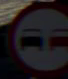No overtake: (8, 2, 64, 71)
